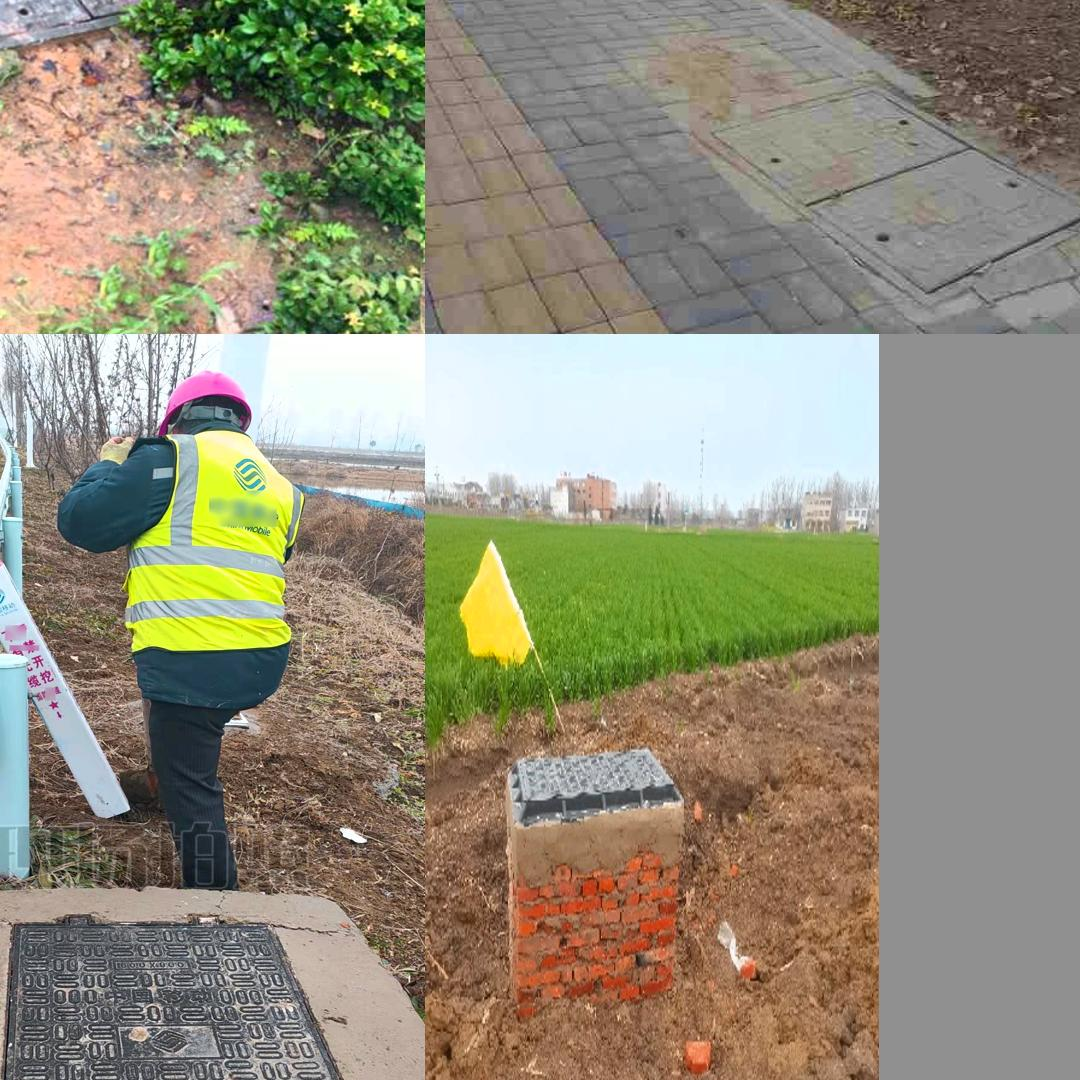good: (692, 79, 1080, 307), (0, 910, 408, 1080), (509, 737, 685, 816), (0, 0, 188, 50)
